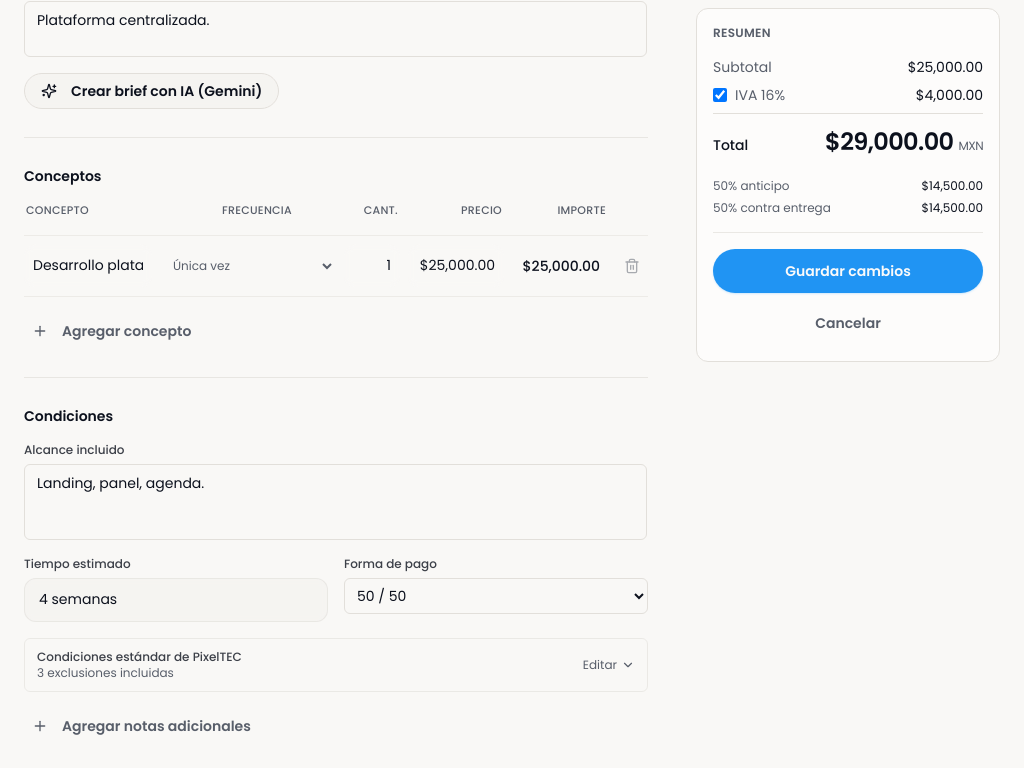
Test: altura y progressive disclosure (criterios 8, 9, 10) › las notas vacías no ocupan espacio, pero se abren al pedirlo
This screenshot has width=1024, height=768.
(page scrolled)
Expected: the field labelled "Notas y condiciones adicionales" is not shown
Click the button "Agregar notas adicionales": (141, 726) [16,708,267,744]
(page scrolled)
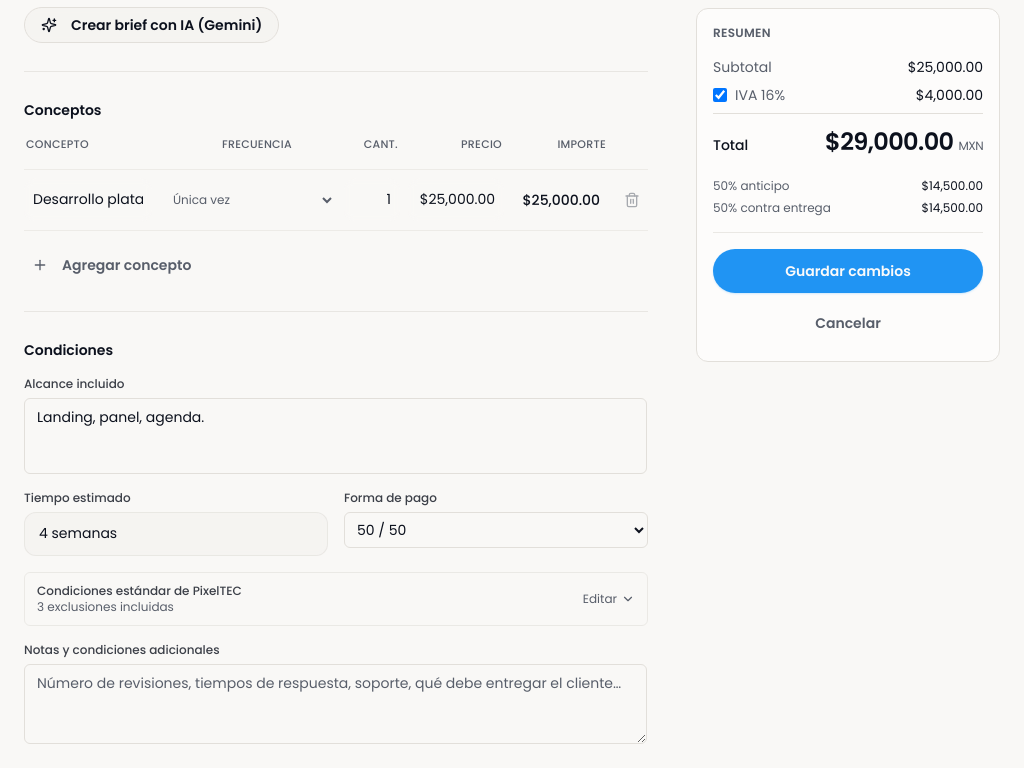
Expected: the text box named "Notas y condiciones adicionales" is shown, [24,664,647,744]
